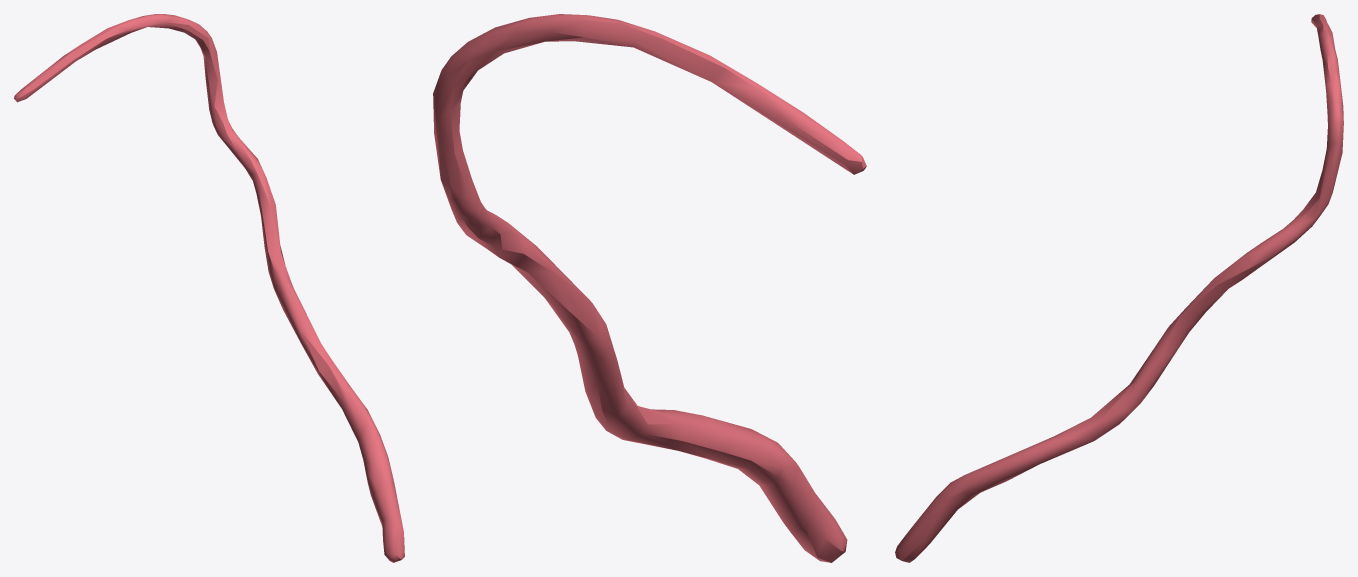
File: fma50353_fj1722.glb
3 views of the same model, side by side, from view 1: azimuth 30°, elevation 25°; view 2: azimuth 150°, elevation 25°; view 3: azimuth 270°, elevation 25° (orthographic). The views are drawn at different scales.
Visible parts, largest first — view 1: FMA50353_FJ1722; view 2: FMA50353_FJ1722; view 3: FMA50353_FJ1722.
Boxes of the visible parts, x1,y1,x2,y2 form: FMA50353_FJ1722: (14,14,404,562); FMA50353_FJ1722: (433,14,866,562); FMA50353_FJ1722: (895,14,1343,562).
Size of the model in its own units: 0.0221 by 0.0396 by 0.0332.
